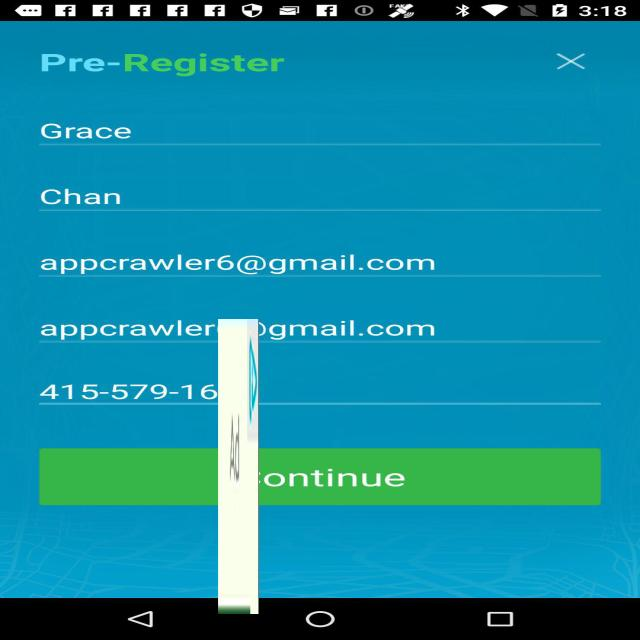sneaking: (218, 319, 259, 614)
